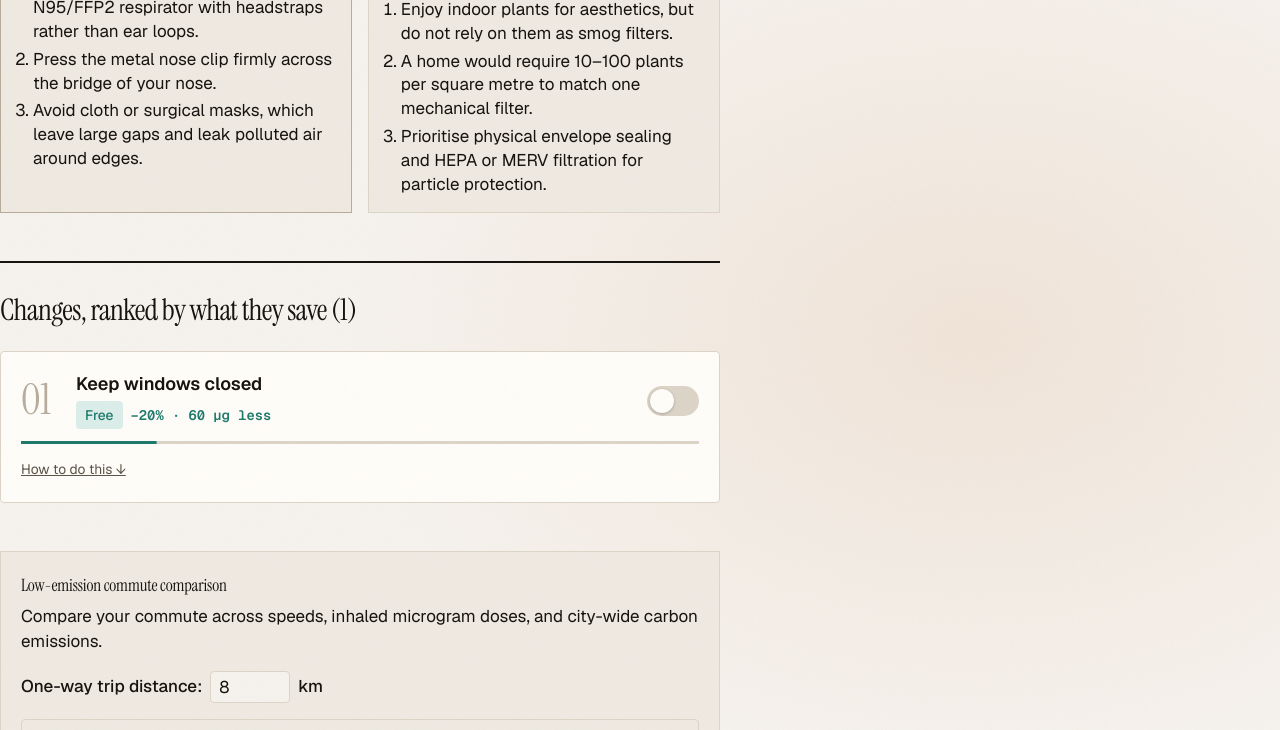
Scenario: PlanStep (Step 3) › toggling switch recomputes doses client-side without any network fetch
(page scrolled)
# Click switch to activate change
Click the switch named "Toggle Keep windows closed" at (673, 401), box x1=647 y1=386 x2=699 y2=416
(page scrolled)
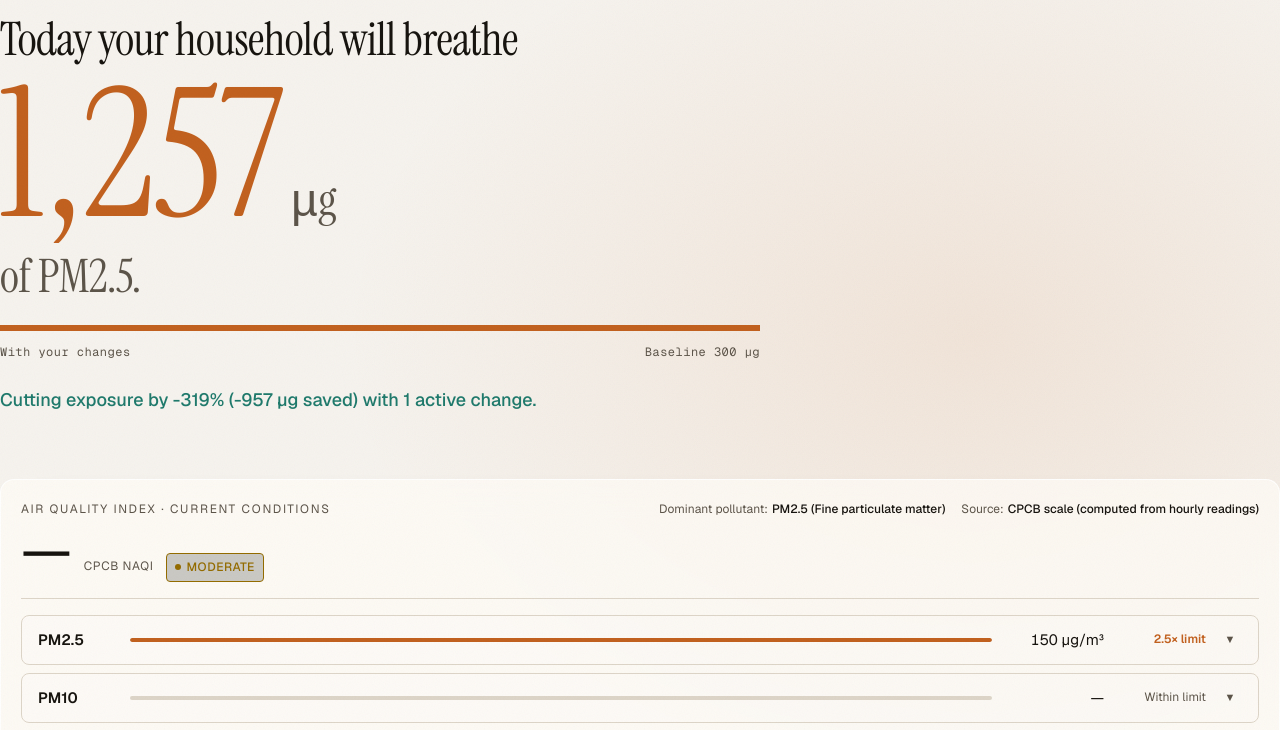
Result: the text "Cutting exposure by" is shown at x1=0 y1=388 x2=536 y2=411
